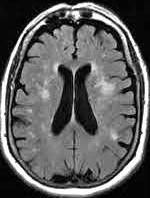Normal_Brain: (1, 1, 150, 198)
